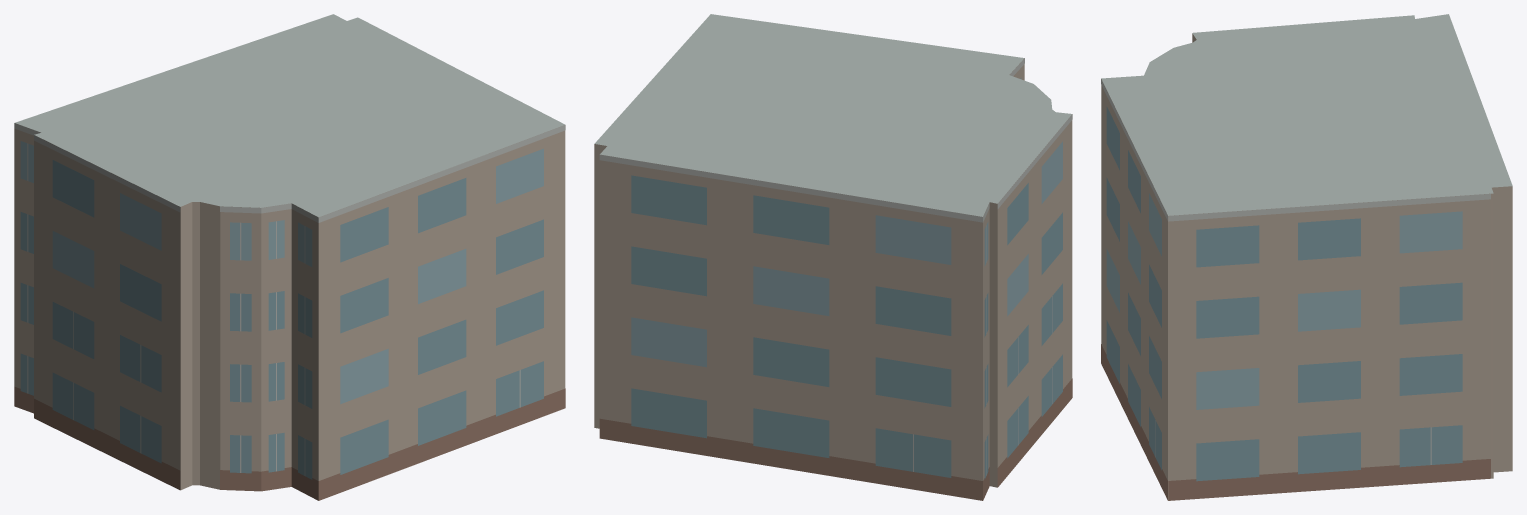
Rendered from survey-upis-32943870.glb.
3 renders of one model, left to right at view 1: azimuth 30°, elevation 25°; view 2: azimuth 150°, elevation 25°; view 3: azimuth 270°, elevation 25°, orthographic.
Visible parts, largest first — view 1: survey-upis-32943870.tmp; view 2: survey-upis-32943870.tmp; view 3: survey-upis-32943870.tmp.
Part boxes in pixels (left/top/right/bottom): survey-upis-32943870.tmp: left=14, top=14, right=565, bottom=500; survey-upis-32943870.tmp: left=594, top=14, right=1072, bottom=500; survey-upis-32943870.tmp: left=1101, top=14, right=1512, bottom=500.
Bounding box in the file's own units: 18.54 × 12.2 × 15.98.
